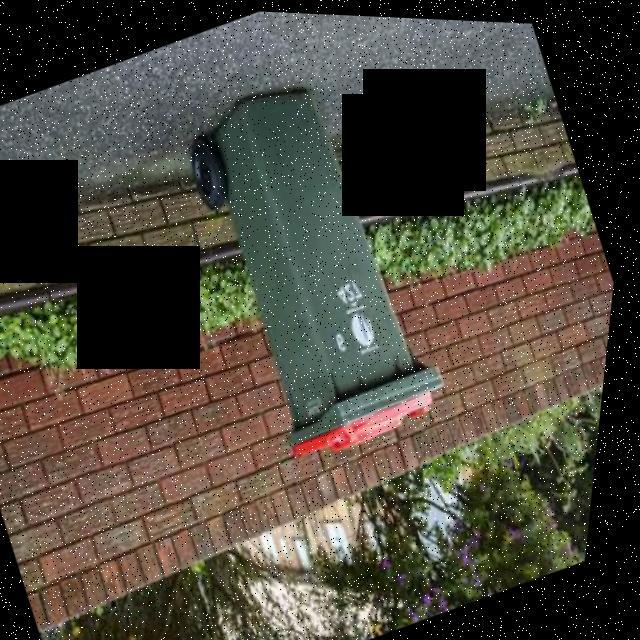bin: (138, 31, 500, 484)
